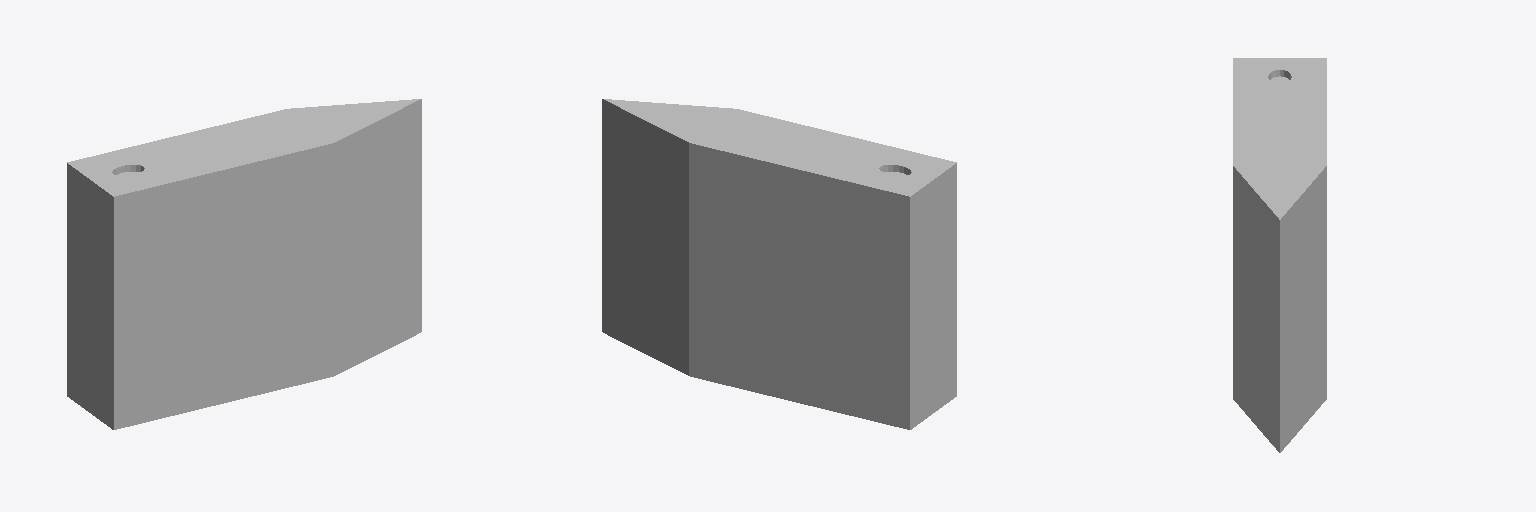
Rendered from paletas.obj.
3 views of the same model, side by side, from view 1: azimuth 30°, elevation 25°; view 2: azimuth 150°, elevation 25°; view 3: azimuth 270°, elevation 25° (orthographic).
Parts seen in each view (by area): view 1: Prism002; view 2: Prism002; view 3: Prism002.
Part boxes in pixels (left/top/right/bottom): Prism002: left=67, top=99, right=421, bottom=429; Prism002: left=602, top=99, right=956, bottom=429; Prism002: left=1233, top=58, right=1326, bottom=452.
Size of the model in its own units: 4.09 by 2.75 by 1.